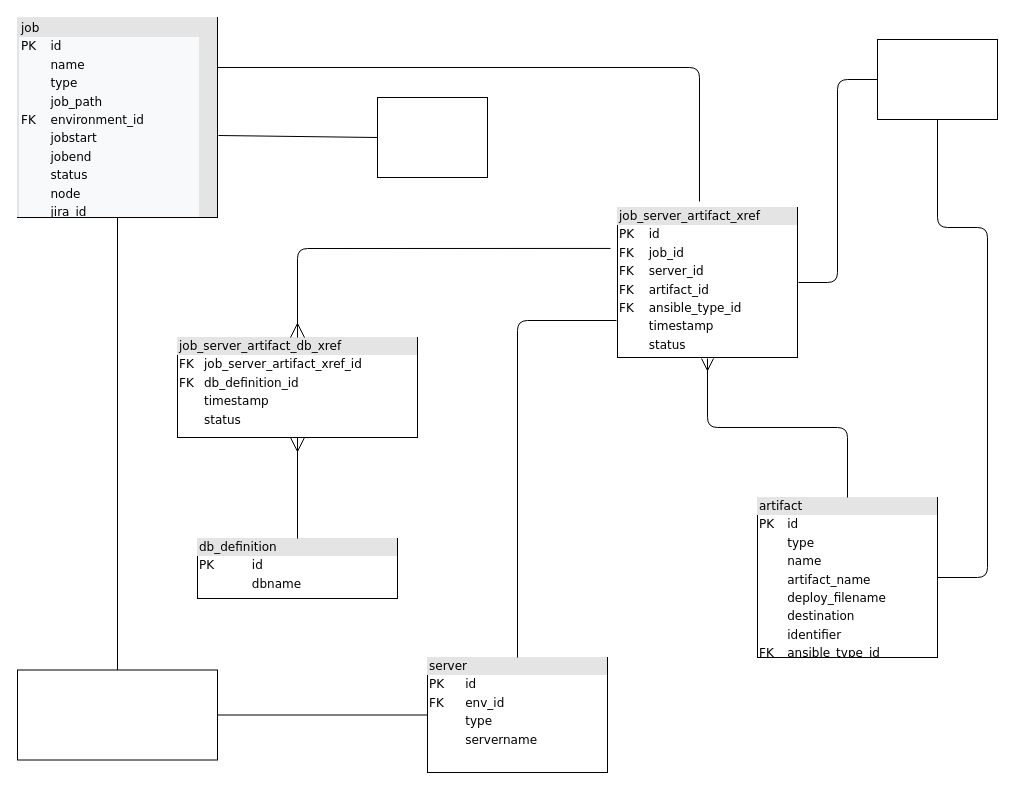
The diagram is 1015 pixels wide and 790 high, and some of its shapes have lost their labels. Each missing label, with the centre of its shape:
ansible_type PK id name description: [937,79]
environment PK id name ansible_name: [117,714]
job_params FK job_id name value: [432,137]
